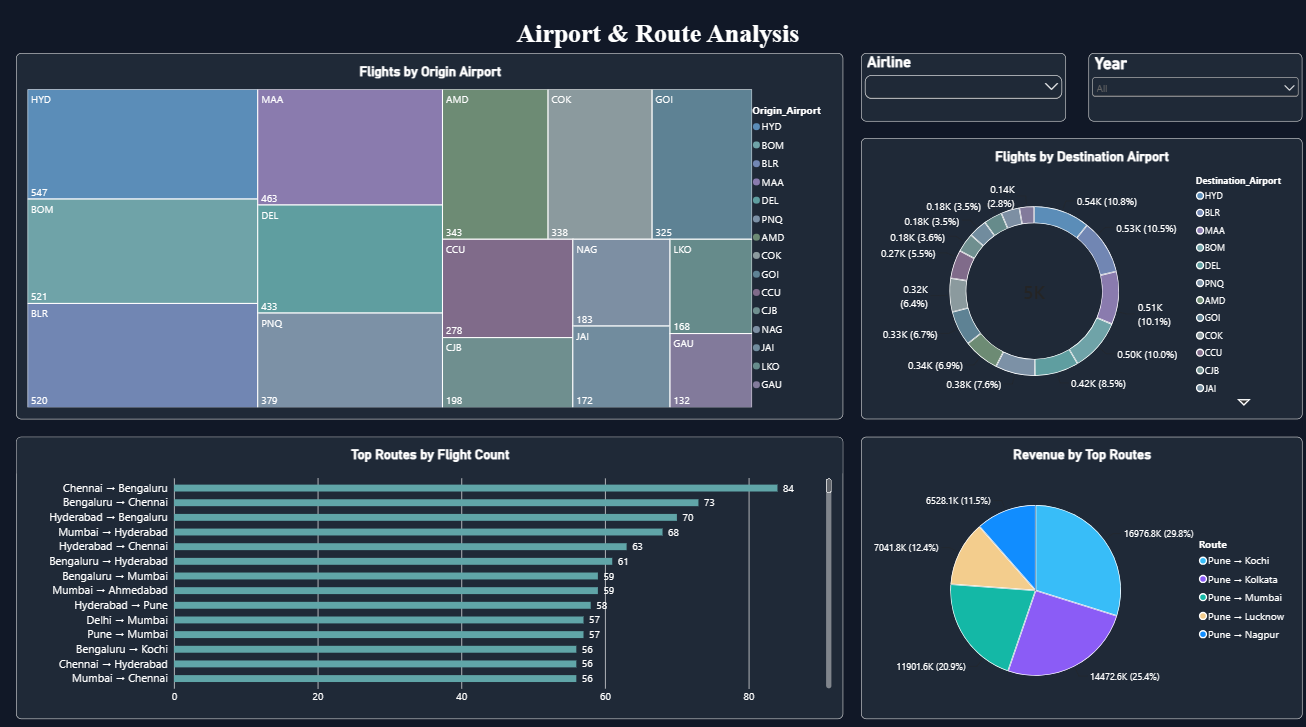

The page's visual inventory and layout, read from the dashboard file:
{"tool":"powerbi","page":{"name":"Airport & Route Analysis.","canvas":[1920,1080],"ordinal":2},"visuals":[{"type":"textbox","box":[10.9,0,1909.2,86.9],"z":0},{"type":"slicer","title":"Airlane","fields":{"Values":["Indian_Airline_Flights_2024_2025.Airline"]},"box":[1259.5,86.9,296.8,99.5],"z":1000},{"type":"slicer","fields":{"Values":["DateTable.Year"]},"box":[1588.9,86.9,309.5,99.5],"z":2000},{"type":"treemap","title":"Flights by Origin Airport","fields":{"Group":["Indian_Airline_Flights_2024_2025.Origin_Airport"],"Values":["Indian_Airline_Flights_2024_2025.Total Flights"]},"box":[36.2,86.9,1198,530.2],"z":3000},{"type":"donutChart","title":"Flights by Destination Airport","fields":{"Category":["Indian_Airline_Flights_2024_2025.Destination_Airport"],"Y":["Indian_Airline_Flights_2024_2025.Total Flights"]},"box":[1259.5,209.9,638.8,407.2],"z":4000},{"type":"clusteredBarChart","title":"Top Routes by Flight Count","fields":{"Category":["Indian_Airline_Flights_2024_2025.Route"],"Y":["Indian_Airline_Flights_2024_2025.Total Flights"]},"box":[36.2,642.4,1198,409],"z":5000},{"type":"pieChart","title":"Revenue by Top Routes","fields":{"Category":["Indian_Airline_Flights_2024_2025.Route"],"Y":["Indian_Airline_Flights_2024_2025.Total Revenue"]},"box":[1260,642,639,409],"z":6000}]}

Visuals, with their boxes in screenshot pixels (x1, y1, x2, y2), scaled from the page's 1920x1080 canvas onto the 1306x727 screenshot:
textbox: [7, 0, 1305, 58]
"Airlane" slicer: [857, 58, 1059, 125]
slicer - DateTable.Year: [1081, 58, 1291, 125]
"Flights by Origin Airport" treemap: [25, 58, 840, 415]
"Flights by Destination Airport" donutChart: [857, 141, 1291, 415]
"Top Routes by Flight Count" clusteredBarChart: [25, 432, 840, 708]
"Revenue by Top Routes" pieChart: [857, 432, 1292, 707]
